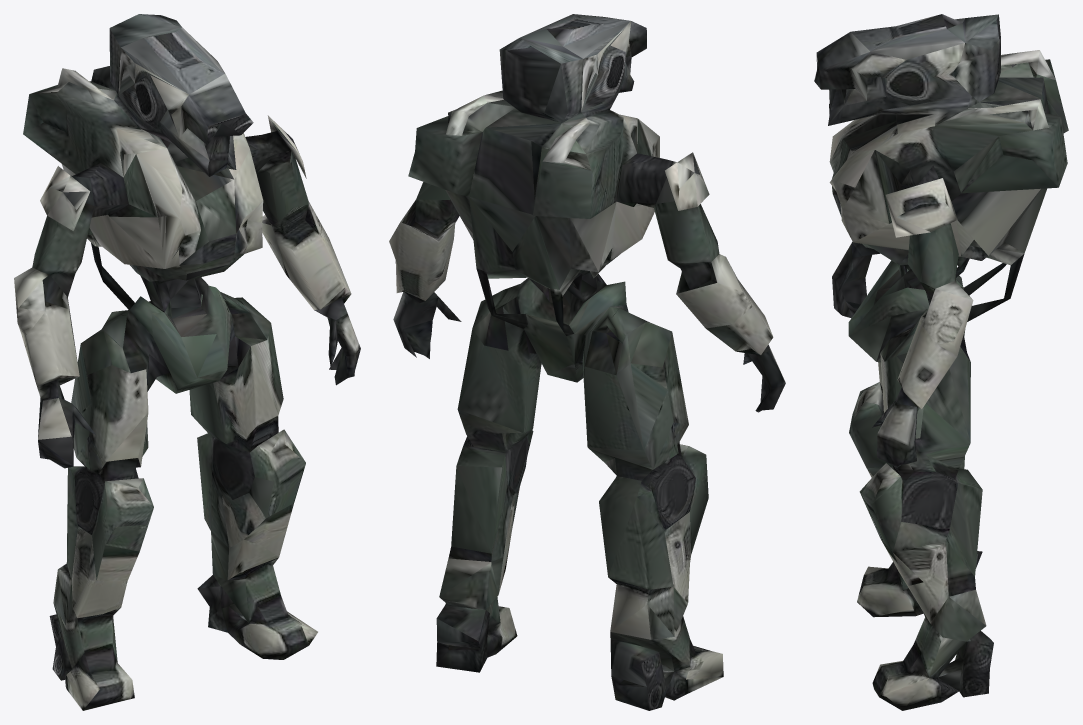
The model's file is t120_eng_lod1.glb.
3 views of the same model, side by side, from view 1: azimuth 30°, elevation 25°; view 2: azimuth 150°, elevation 25°; view 3: azimuth 270°, elevation 25° (orthographic). The views are drawn at different scales.
Bounding box in the file's own units: 1.03 × 1.78 × 0.6507.
1 material, 1 textured.
